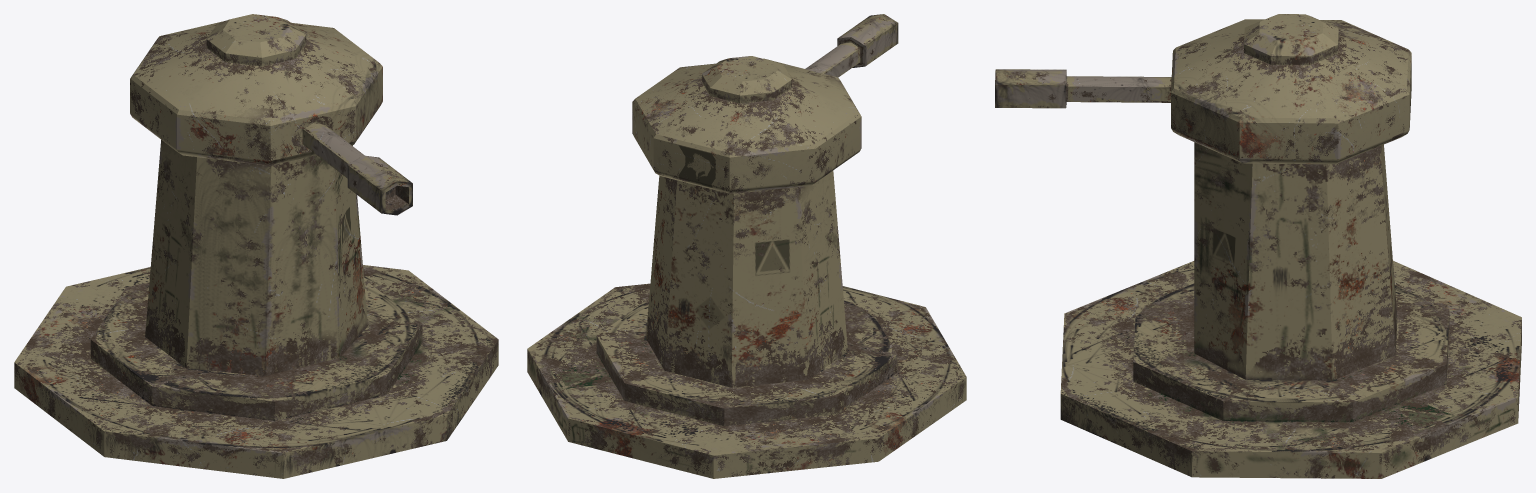
3 renders of one model, left to right at view 1: azimuth 30°, elevation 25°; view 2: azimuth 150°, elevation 25°; view 3: azimuth 270°, elevation 25°, orthographic. The views are drawn at different scales.
Parts seen in each view (by area): view 1: tower2, turret; view 2: tower2, turret; view 3: tower2, turret.
Boxes of the visible parts, x1,y1,x2,y2 form: tower2: (14,140,498,478); turret: (130,14,412,215); tower2: (527,170,966,478); turret: (632,14,898,193); tower2: (1060,142,1521,478); turret: (995,14,1411,164).
Size of the model in its own units: 5.25 by 4.45 by 6.
1 material, 1 textured.
